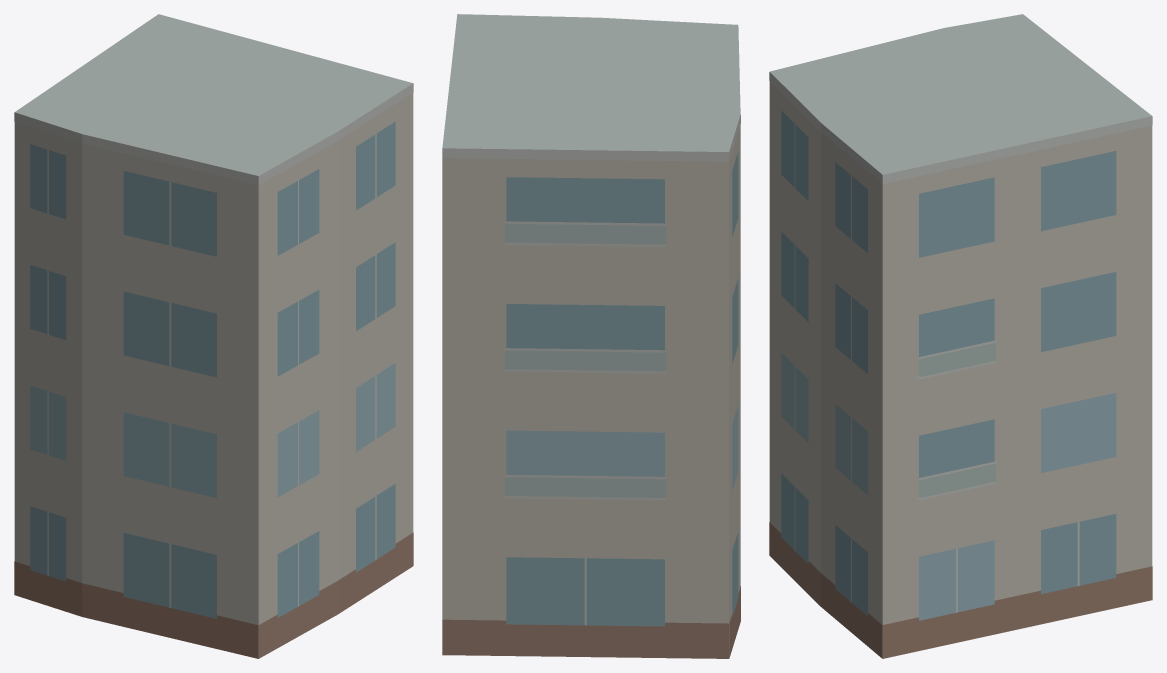
The model's file is survey-upis-32474958.glb.
The picture shows the model from 3 angles, left to right: view 1: azimuth 30°, elevation 25°; view 2: azimuth 150°, elevation 25°; view 3: azimuth 270°, elevation 25°; orthographic projection. The views are drawn at different scales.
Parts seen in each view (by area): view 1: survey-upis-32474958.tmp; view 2: survey-upis-32474958.tmp; view 3: survey-upis-32474958.tmp.
Boxes of the visible parts, box(x1,y1,x2,y2) form: survey-upis-32474958.tmp: box(14, 14, 413, 658); survey-upis-32474958.tmp: box(442, 14, 740, 658); survey-upis-32474958.tmp: box(769, 14, 1152, 658).
Bounding box in the file's own units: 9.07 × 12.7 × 9.12.
